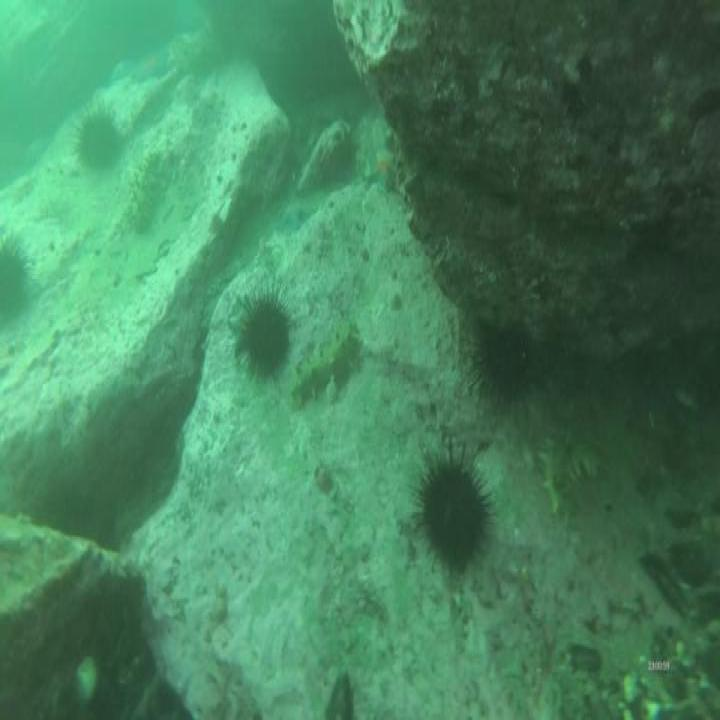echinus: (421, 455, 485, 573), (235, 297, 288, 380), (479, 327, 537, 397), (77, 110, 118, 167), (1, 245, 26, 322)
holothurian: (294, 325, 362, 406), (543, 432, 597, 514), (129, 147, 159, 233)
starfish: (283, 192, 311, 231), (364, 158, 396, 192)
